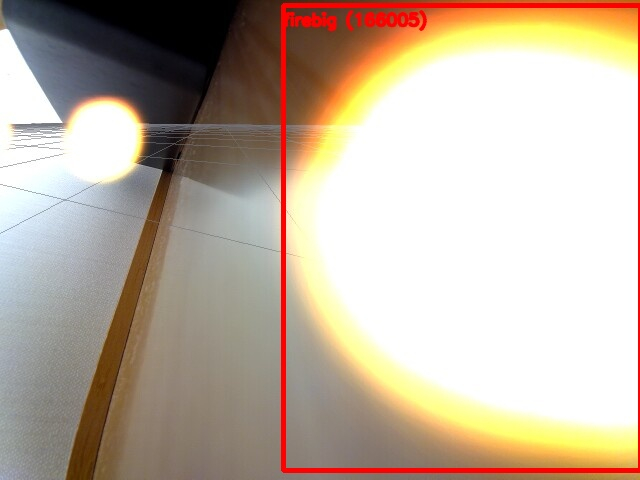firebig: (283, 5, 640, 470)
